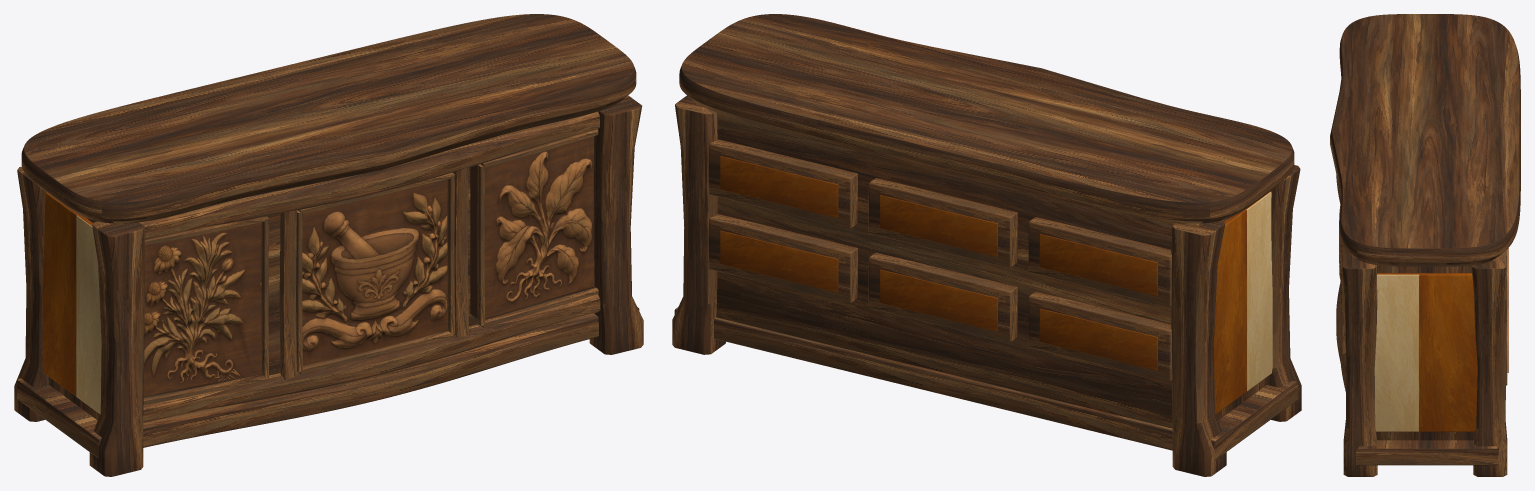
File: CM_SW13_ServiceCounter.fbx
3 views of the same model, side by side, from view 1: azimuth 30°, elevation 25°; view 2: azimuth 150°, elevation 25°; view 3: azimuth 270°, elevation 25° (orthographic). The views are drawn at different scales.
Parts seen in each view (by area): view 1: CM_SW13_ServiceCounter; view 2: CM_SW13_ServiceCounter; view 3: CM_SW13_ServiceCounter.
Part boxes in pixels (x1,y1,x2,y2): CM_SW13_ServiceCounter: [14, 14, 643, 476]; CM_SW13_ServiceCounter: [672, 14, 1301, 476]; CM_SW13_ServiceCounter: [1330, 14, 1520, 476].
Size of the model in its own units: 2.28 by 1.05 by 0.78.
